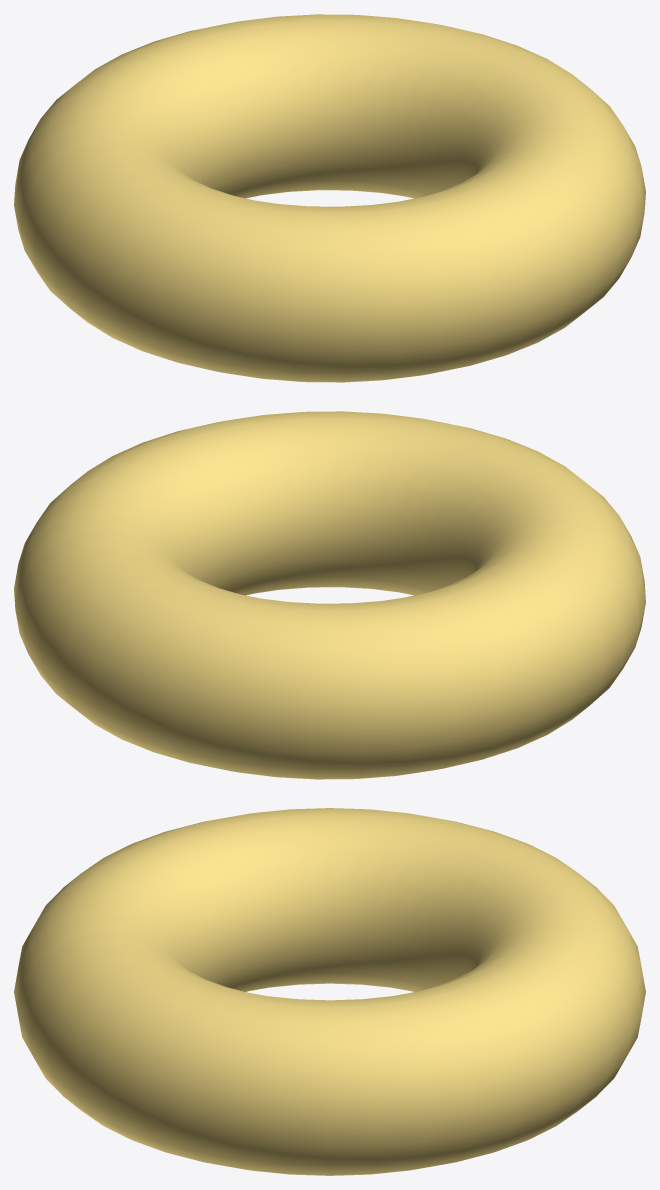
3 views of the same model, one above another, from view 1: azimuth 30°, elevation 25°; view 2: azimuth 150°, elevation 25°; view 3: azimuth 270°, elevation 25° (orthographic).
Visible parts, largest first — view 1: torus; view 2: torus; view 3: torus.
Boxes of the visible parts, box(x1,y1,x2,y2) form: torus: box(14, 14, 645, 382); torus: box(14, 411, 645, 779); torus: box(14, 808, 645, 1175).
Bounding box in the file's own units: 1 × 0.28 × 1.
